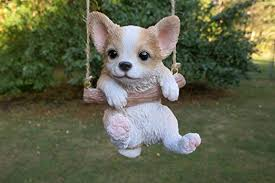Chihuahua: (74, 11, 222, 162)
